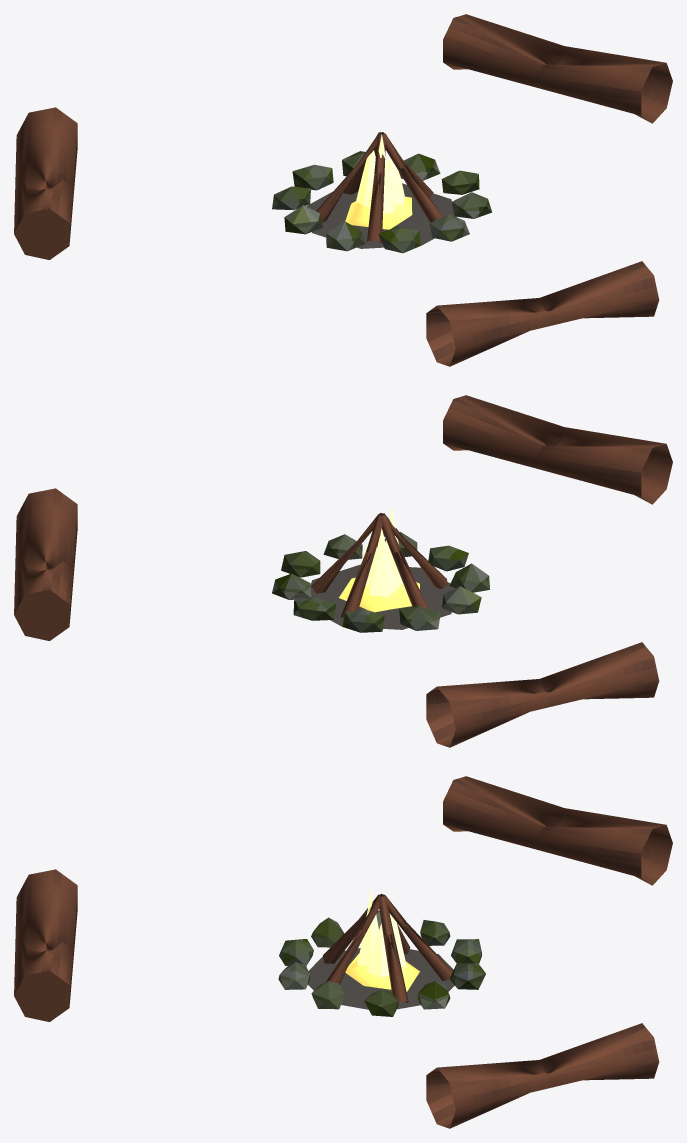
File: campfire.glb
3 views of the same model, one above another, from view 1: azimuth 30°, elevation 25°; view 2: azimuth 150°, elevation 25°; view 3: azimuth 270°, elevation 25° (orthographic).
Parts seen in each view (by area): view 1: campfire_Bark_Dark, campfire_Stone_Rock, campfire_Ash, campfire_Flame_Glow, campfire_Embers_Glow; view 2: campfire_Bark_Dark, campfire_Stone_Rock, campfire_Ash, campfire_Flame_Glow, campfire_Embers_Glow; view 3: campfire_Bark_Dark, campfire_Stone_Rock, campfire_Ash, campfire_Flame_Glow, campfire_Embers_Glow.
Part boxes in pixels (bbox=[...]): campfire_Bark_Dark: bbox=[14, 14, 672, 366]; campfire_Stone_Rock: bbox=[272, 151, 492, 253]; campfire_Ash: bbox=[306, 183, 456, 248]; campfire_Flame_Glow: bbox=[356, 134, 405, 213]; campfire_Embers_Glow: bbox=[345, 196, 412, 229]; campfire_Bark_Dark: bbox=[14, 395, 672, 747]; campfire_Stone_Rock: bbox=[272, 532, 489, 632]; campfire_Ash: bbox=[310, 564, 455, 629]; campfire_Flame_Glow: bbox=[362, 507, 402, 597]; campfire_Embers_Glow: bbox=[339, 577, 419, 612]; campfire_Bark_Dark: bbox=[14, 776, 672, 1128]; campfire_Stone_Rock: bbox=[278, 910, 485, 1016]; campfire_Ash: bbox=[308, 948, 454, 1009]; campfire_Flame_Glow: bbox=[357, 889, 406, 977]; campfire_Embers_Glow: bbox=[345, 953, 419, 991].
Size of the model in its own units: 5.15 by 0.6814 by 4.51.
5 materials, 2 textured.
